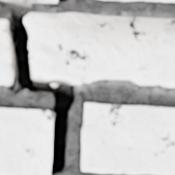brick: (81, 103, 174, 174), (0, 108, 52, 174), (0, 0, 57, 4), (101, 0, 174, 2)
broken_brick: (24, 13, 174, 87), (0, 20, 12, 86)
crack: (0, 2, 75, 173), (58, 0, 67, 2)
